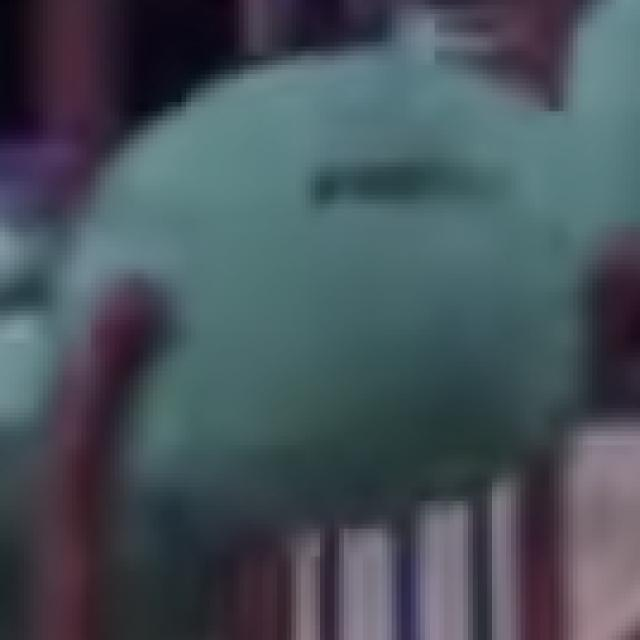Algae: (58, 52, 584, 543), (567, 0, 640, 229)
Reef: (74, 274, 162, 478)
